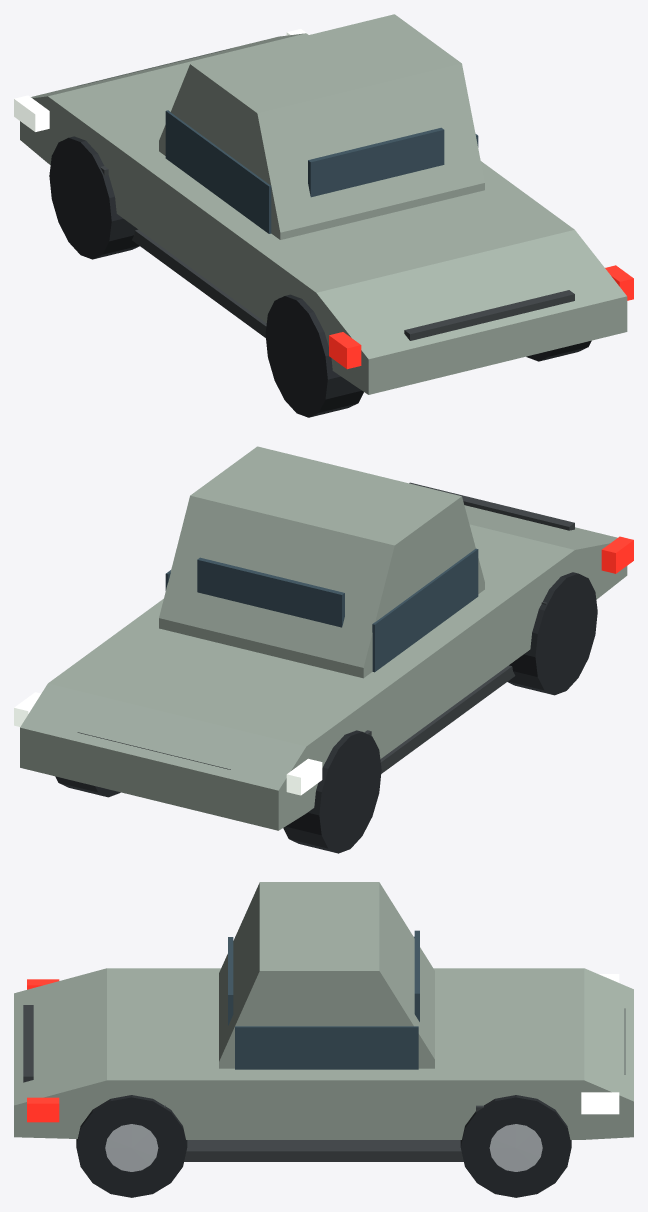
Rendered from lexus-rx-350-premium.glb.
3 renders of one model, top to bottom at view 1: azimuth 30°, elevation 25°; view 2: azimuth 150°, elevation 25°; view 3: azimuth 270°, elevation 25°, orthographic. The views are drawn at different scales.
Parts seen in each view (by area): view 1: lexus-rx-350-premium illustrative model; view 2: lexus-rx-350-premium illustrative model; view 3: lexus-rx-350-premium illustrative model.
Boxes of the visible parts, box(x1,y1,x2,y2) form: lexus-rx-350-premium illustrative model: box(14, 14, 633, 417); lexus-rx-350-premium illustrative model: box(14, 446, 633, 853); lexus-rx-350-premium illustrative model: box(14, 882, 633, 1197).
Size of the model in its own units: 2.02 by 1.61 by 4.25.
